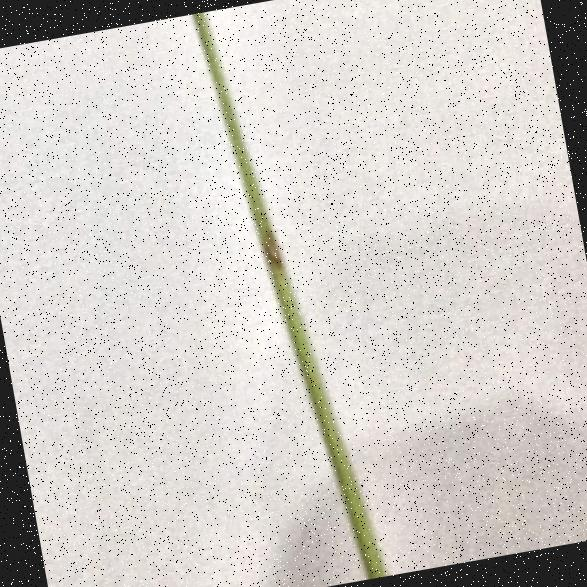Leaf_smut: (245, 194, 290, 299)
